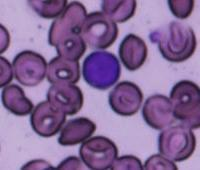L: (82, 48, 122, 90)
